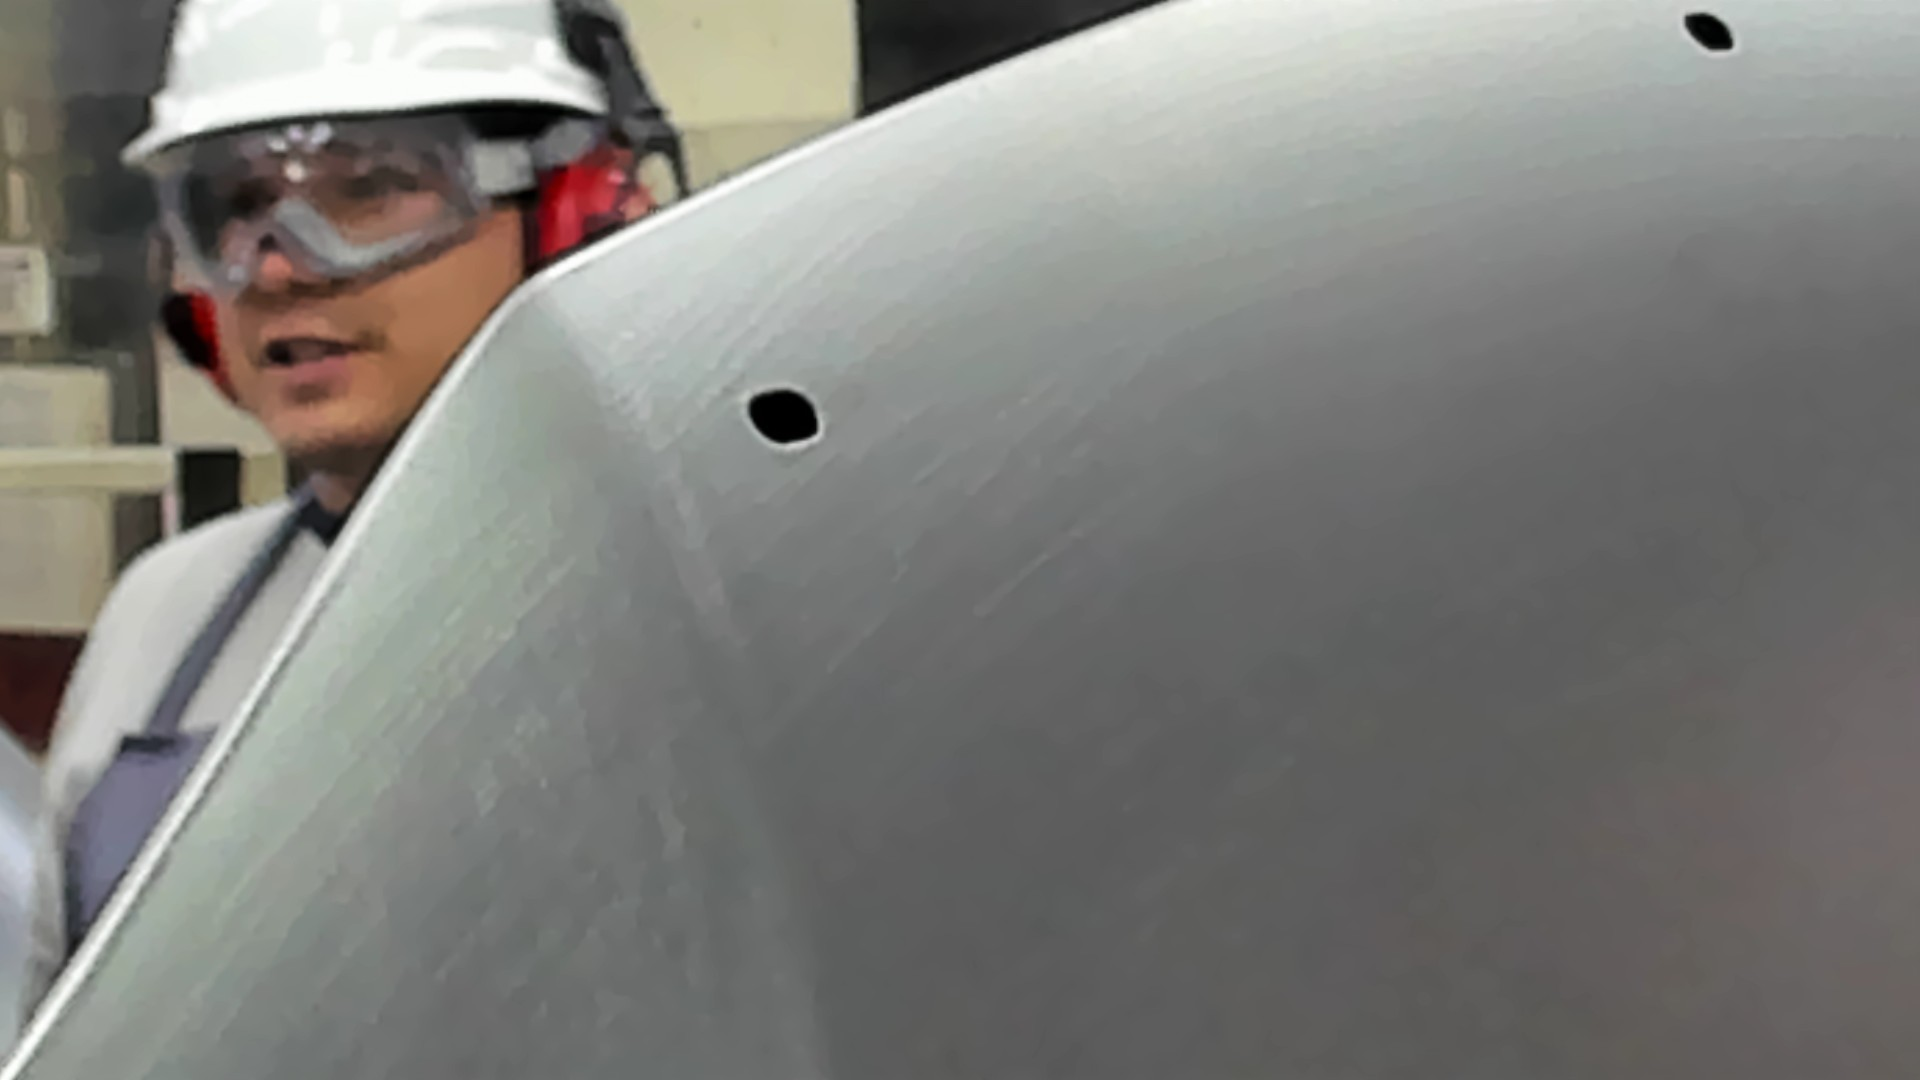amorfo: (736, 382, 833, 455), (1677, 4, 1741, 63)
